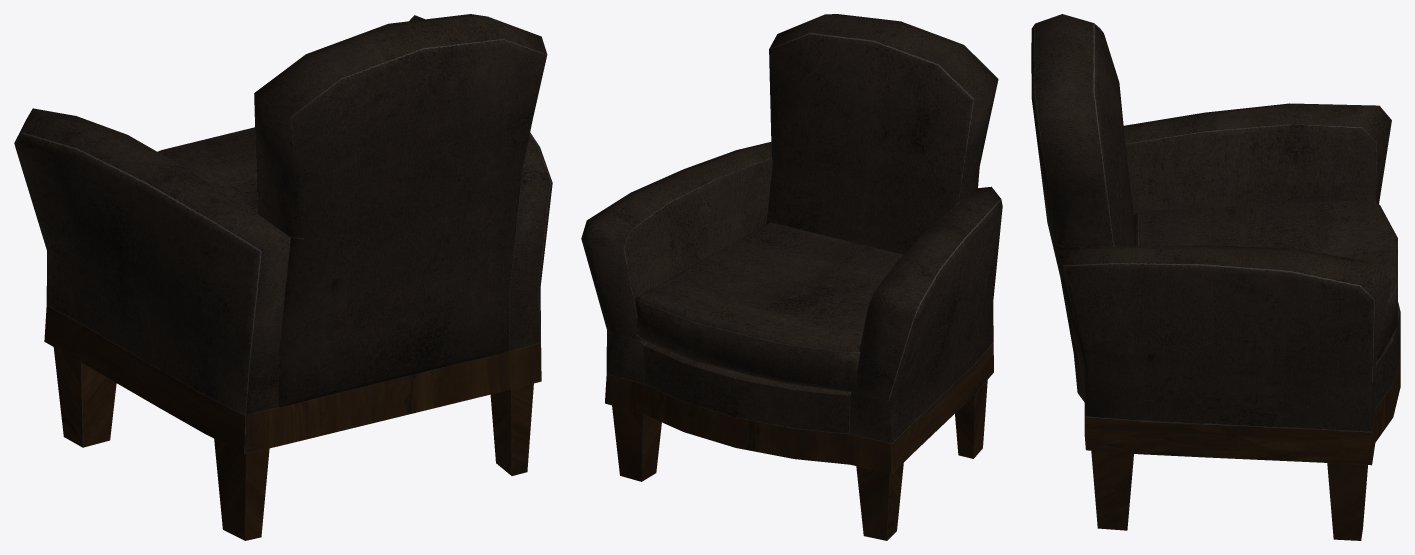
Rendered from Armchair.glb.
The picture shows the model from 3 angles, left to right: view 1: azimuth 30°, elevation 25°; view 2: azimuth 150°, elevation 25°; view 3: azimuth 270°, elevation 25°; orthographic projection. The views are drawn at different scales.
Parts seen in each view (by area): view 1: Chair, Pillox; view 2: Chair, Pillox; view 3: Chair, Pillox.
Part boxes in pixels (x1,y1,x2,y2): Chair: (14,14,552,540); Pillox: (157,127,257,212); Chair: (581,14,1002,540); Pillox: (635,222,903,392); Chair: (1031,14,1400,540); Pillox: (1134,199,1397,360).
Bounding box in the file's own units: 0.8783 × 0.965 × 0.7513.
1 material, 1 textured.
